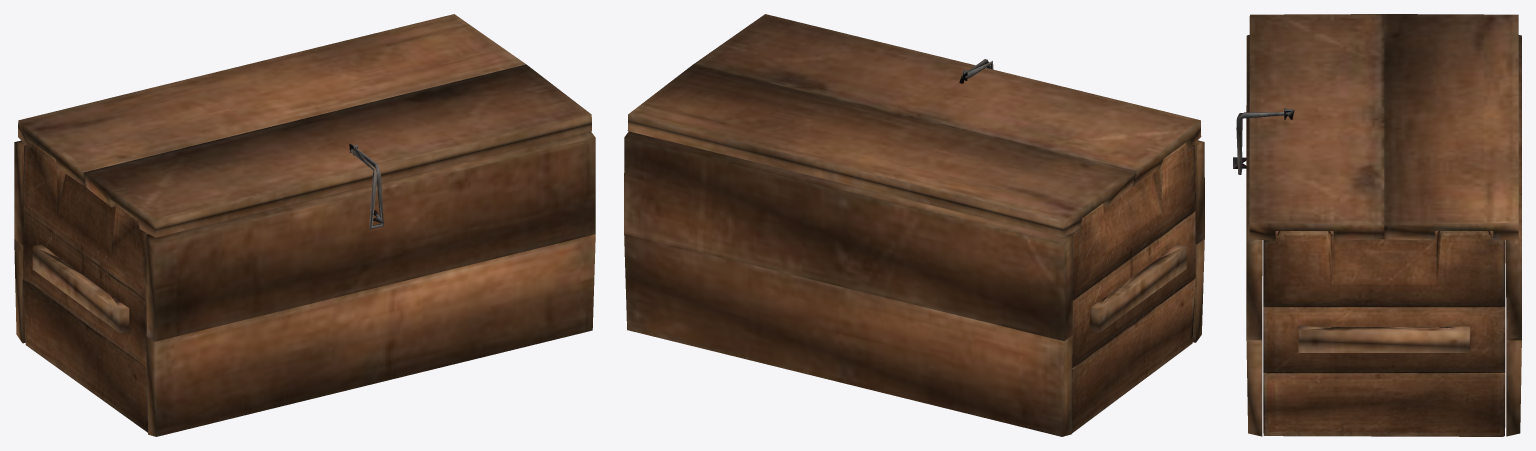
The model's file is crate.glb.
3 renders of one model, left to right at view 1: azimuth 30°, elevation 25°; view 2: azimuth 150°, elevation 25°; view 3: azimuth 270°, elevation 25°, orthographic. The views are drawn at different scales.
Parts seen in each view (by area): view 1: wooden_crate_01_lid; view 2: wooden_crate_01_lid; view 3: wooden_crate_01_lid.
Boxes of the visible parts, <box> form: wooden_crate_01_lid: <box>14,14,595,436</box>; wooden_crate_01_lid: <box>624,14,1204,436</box>; wooden_crate_01_lid: <box>1233,14,1521,436</box>.
Bounding box in the file's own units: 0.7229 × 0.3469 × 0.4043.
Materials: 1 (1 with a texture image).
